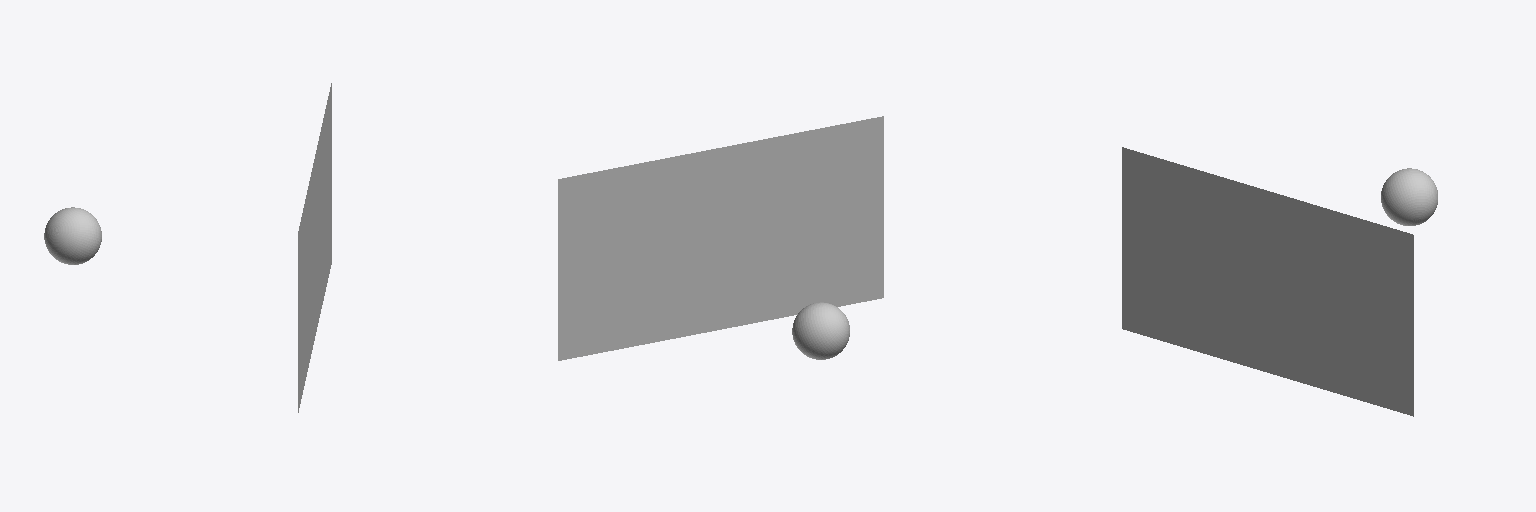
The model's file is planet-earth.obj.
The picture shows the model from 3 angles: view 1: azimuth 30°, elevation 25°; view 2: azimuth 150°, elevation 25°; view 3: azimuth 270°, elevation 25°; orthographic projection.
Visible parts, largest first — view 1: 2D_Star_Background_stars, CLOUDS_Sphere.003; view 2: 2D_Star_Background_stars, CLOUDS_Sphere.003; view 3: 2D_Star_Background_stars, CLOUDS_Sphere.003.
Part boxes in pixels (x1,y1,x2,y2): 2D_Star_Background_stars: (298,83,331,412); CLOUDS_Sphere.003: (44,207,101,264); 2D_Star_Background_stars: (558,116,883,360); CLOUDS_Sphere.003: (792,302,849,359); 2D_Star_Background_stars: (1122,147,1413,416); CLOUDS_Sphere.003: (1381,168,1437,225).
Bounding box in the file's own units: 83.21 × 50.59 × 79.82.